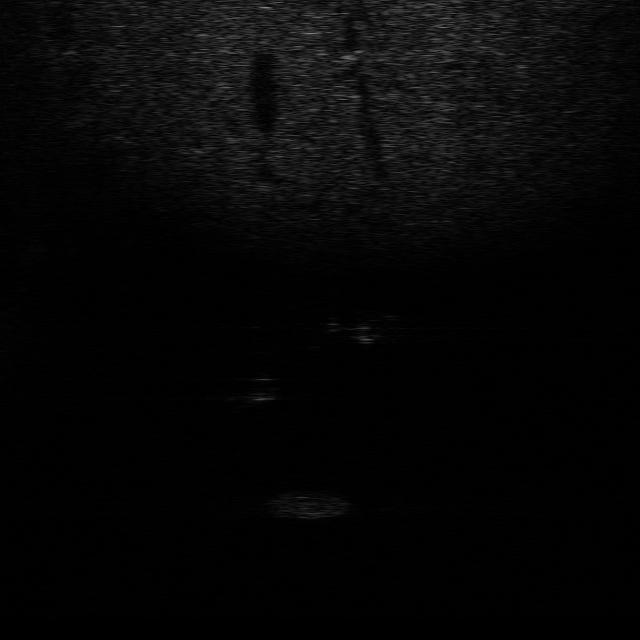ball: (235, 372, 285, 407)
circle cage: (260, 485, 346, 523)
human body: (313, 310, 397, 352)
